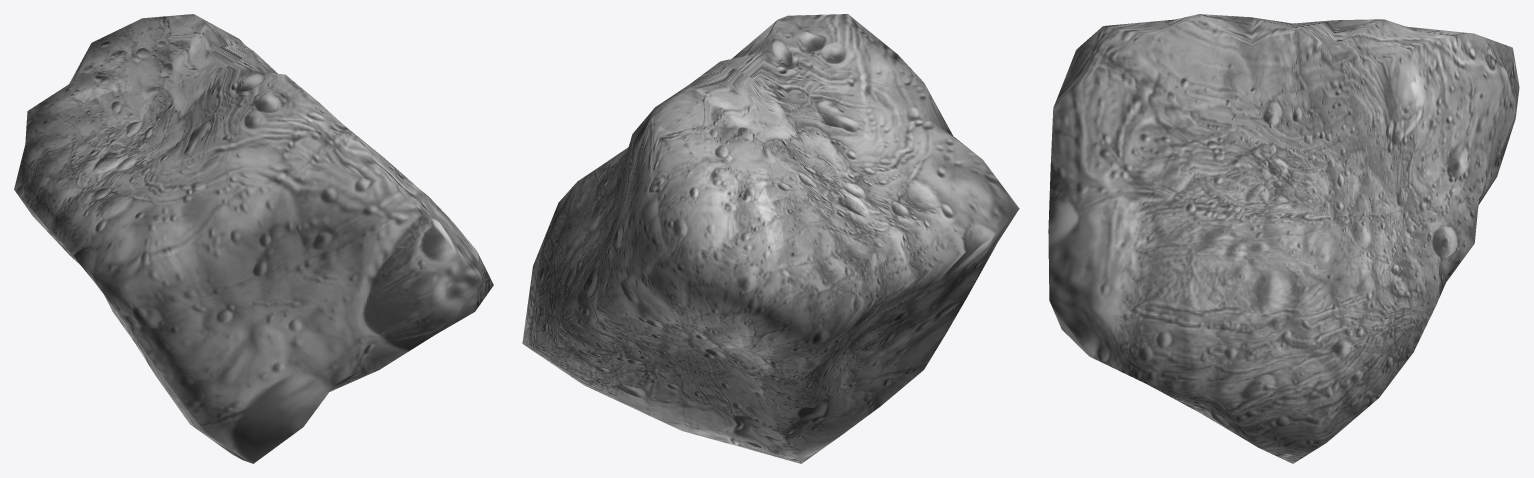
The model's file is asteroid_4.FBX.
3 renders of one model, left to right at view 1: azimuth 30°, elevation 25°; view 2: azimuth 150°, elevation 25°; view 3: azimuth 270°, elevation 25°, orthographic. The views are drawn at different scales.
Parts seen in each view (by area): view 1: GeoSphere002; view 2: GeoSphere002; view 3: GeoSphere002.
Boxes of the visible parts, bbox=[...] form: GeoSphere002: bbox=[14, 14, 493, 463]; GeoSphere002: bbox=[522, 14, 1019, 463]; GeoSphere002: bbox=[1048, 14, 1519, 463].
Size of the model in its own units: 4.19 by 3.87 by 3.84.
1 material, 1 textured.
